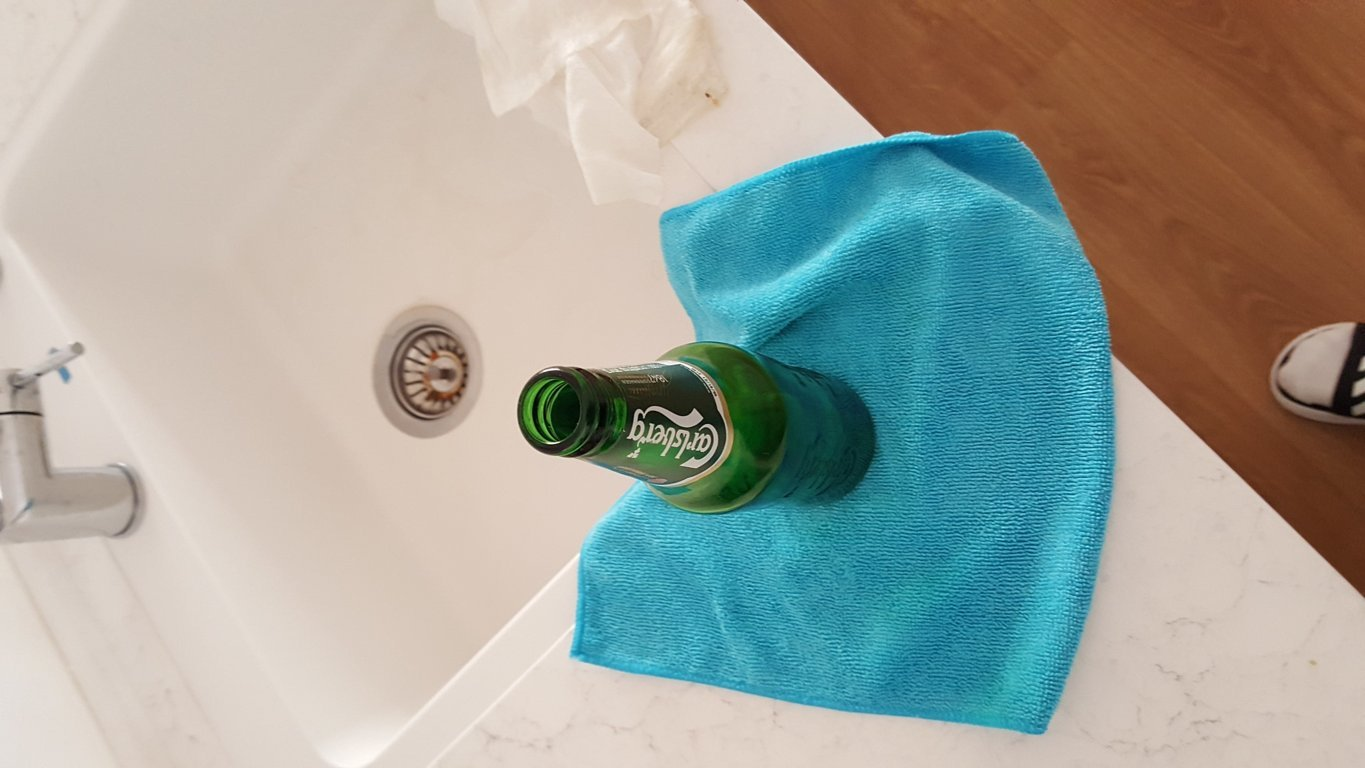beer: (520, 340, 878, 506)
